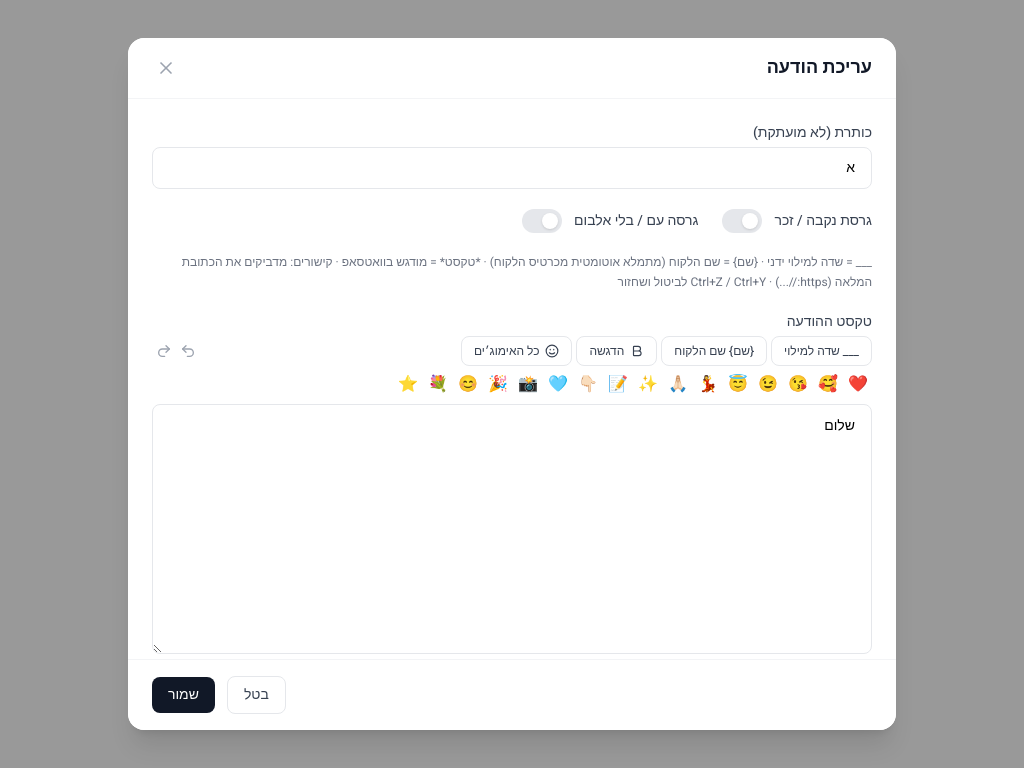
MessageEditor › Ctrl+Z / Ctrl+Y undo and redo typing and inserted blanks (also on a Hebrew keyboard layout)
Step 1. Click the button "___ שדה למילוי" → [822, 351], box [771,336,872,366]
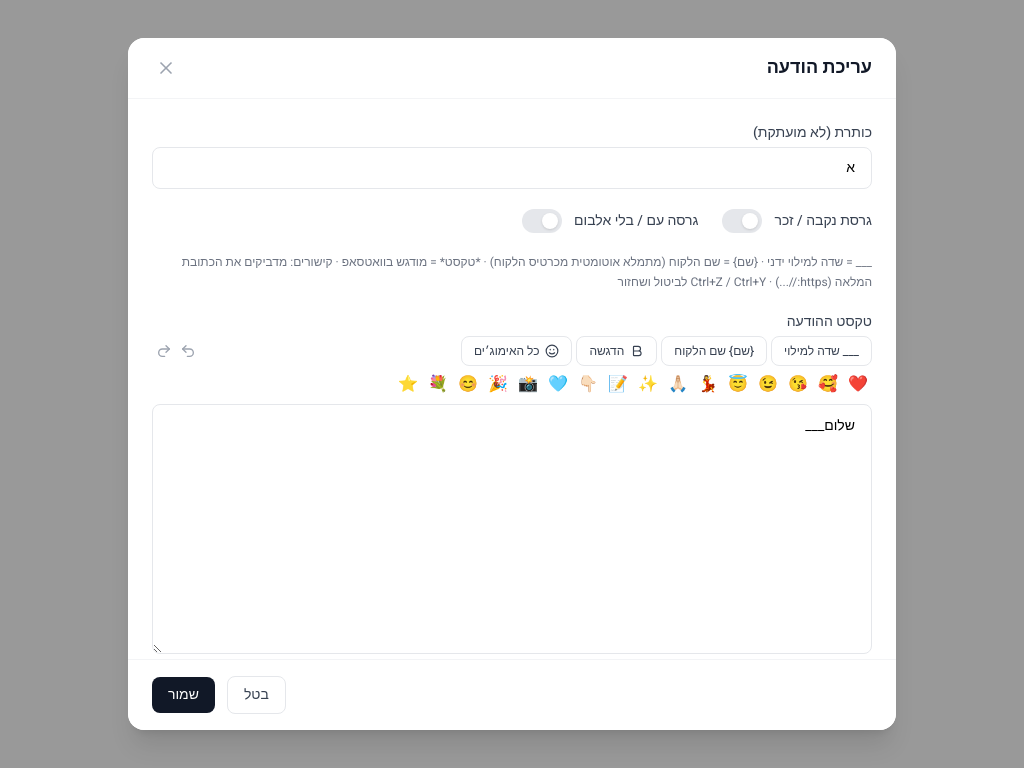
Note: Hebrew layout: key is 'ז' but the physical key is KeyZ
Step 2. Press ז in the text box, box [152,404,872,654]
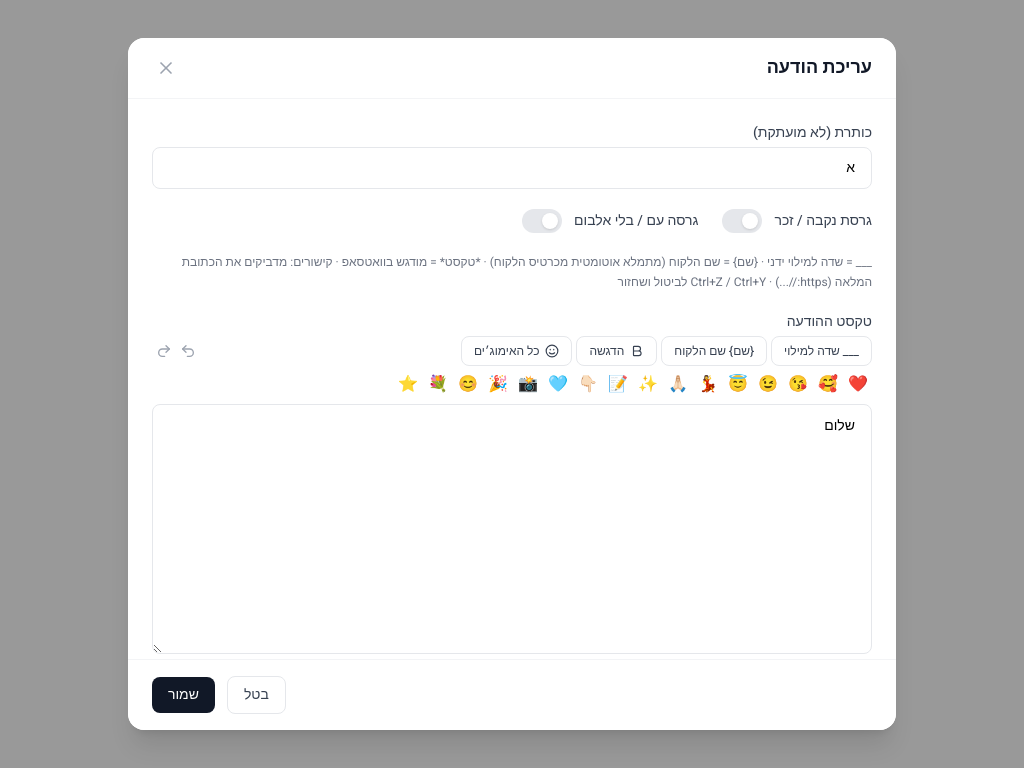
Step 3. Press ט in the text box, box [152,404,872,654]
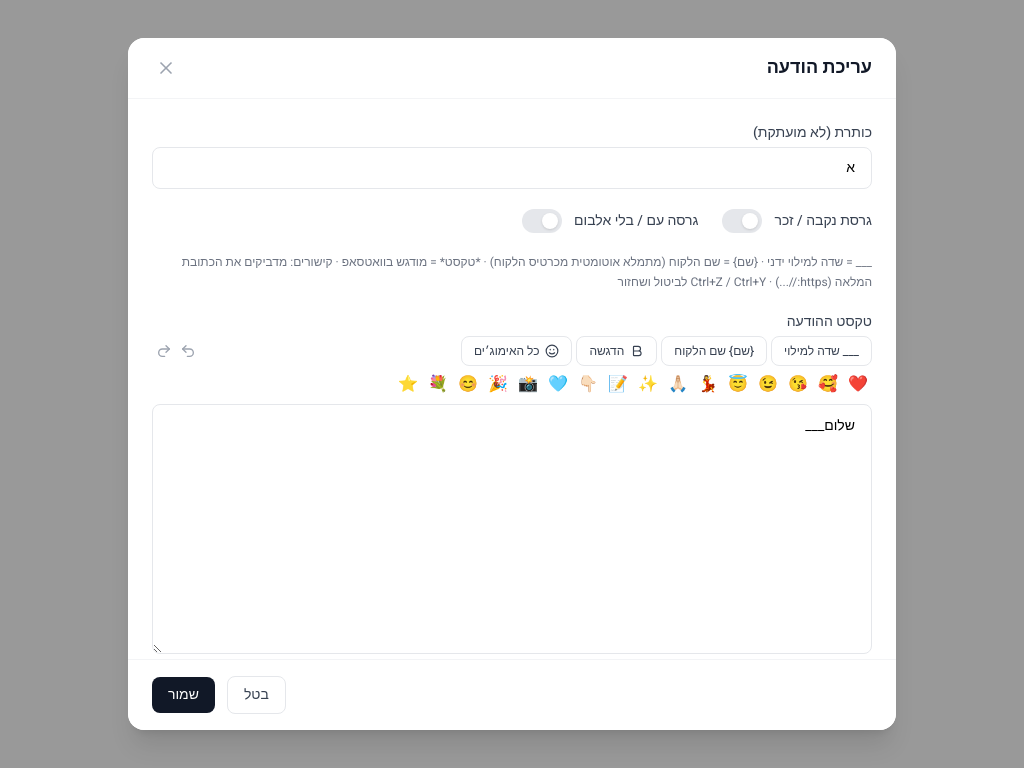
Step 4. Replace the text in the text box with "חדש" → [512, 529], box [152,404,872,654]
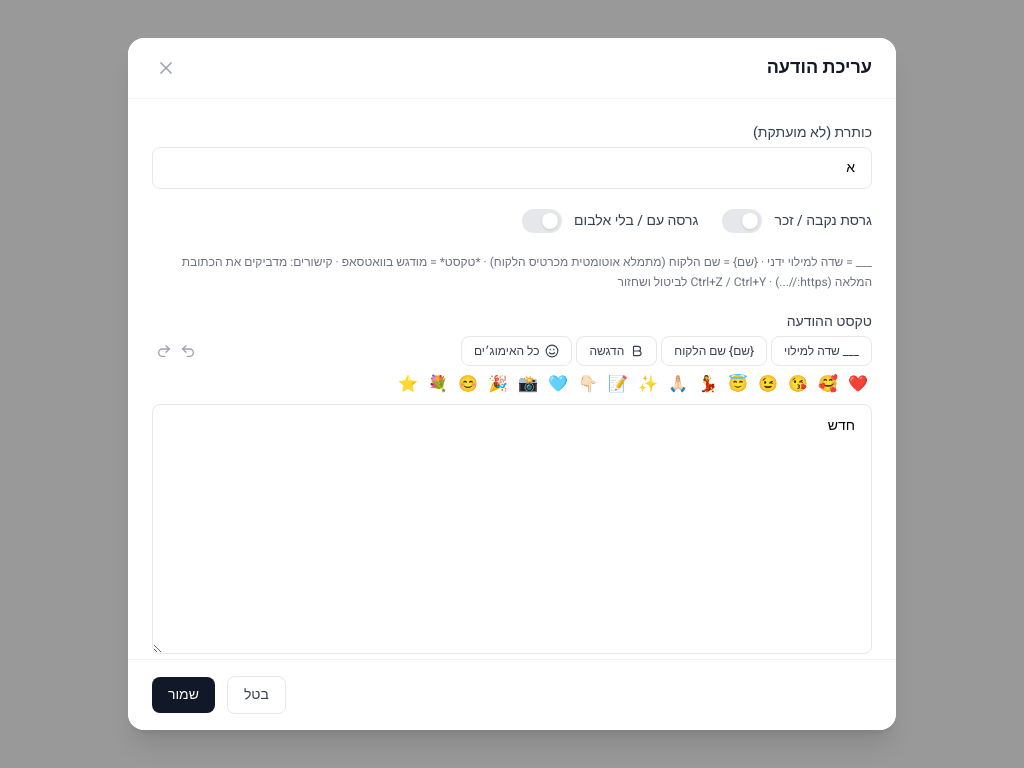
Step 5. Click the button named "בטל פעולה (Ctrl+Z)" → [188, 351], box [176,339,200,363]
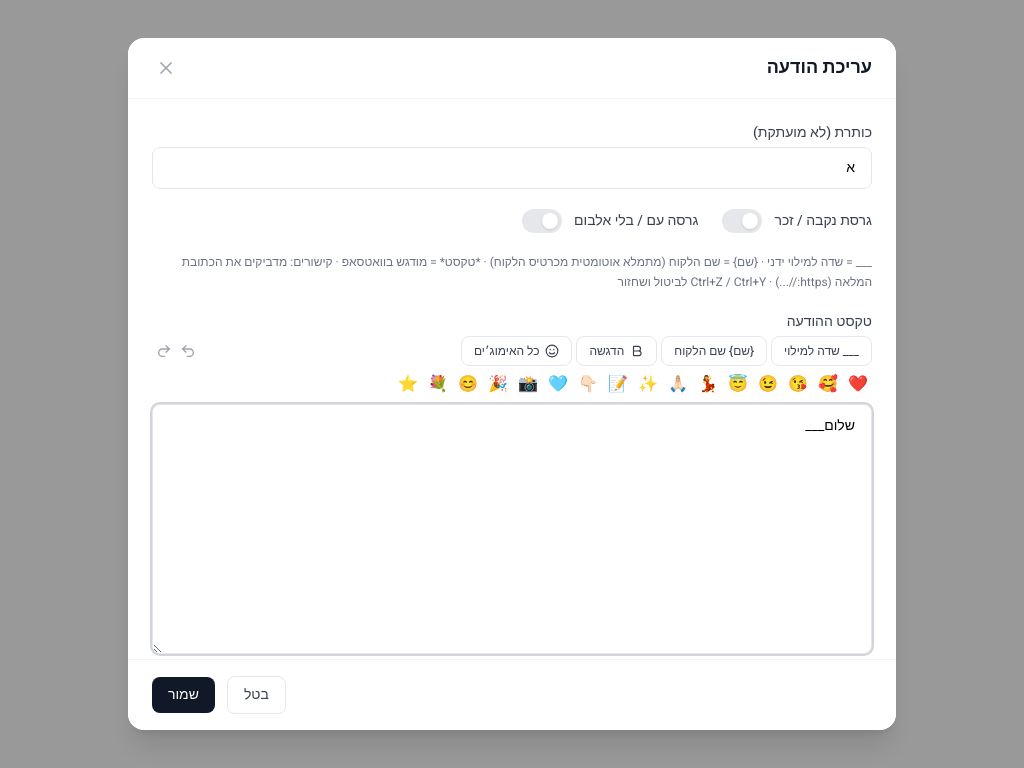
expect the text box holds "שלום___": met, box [152,404,872,654]
